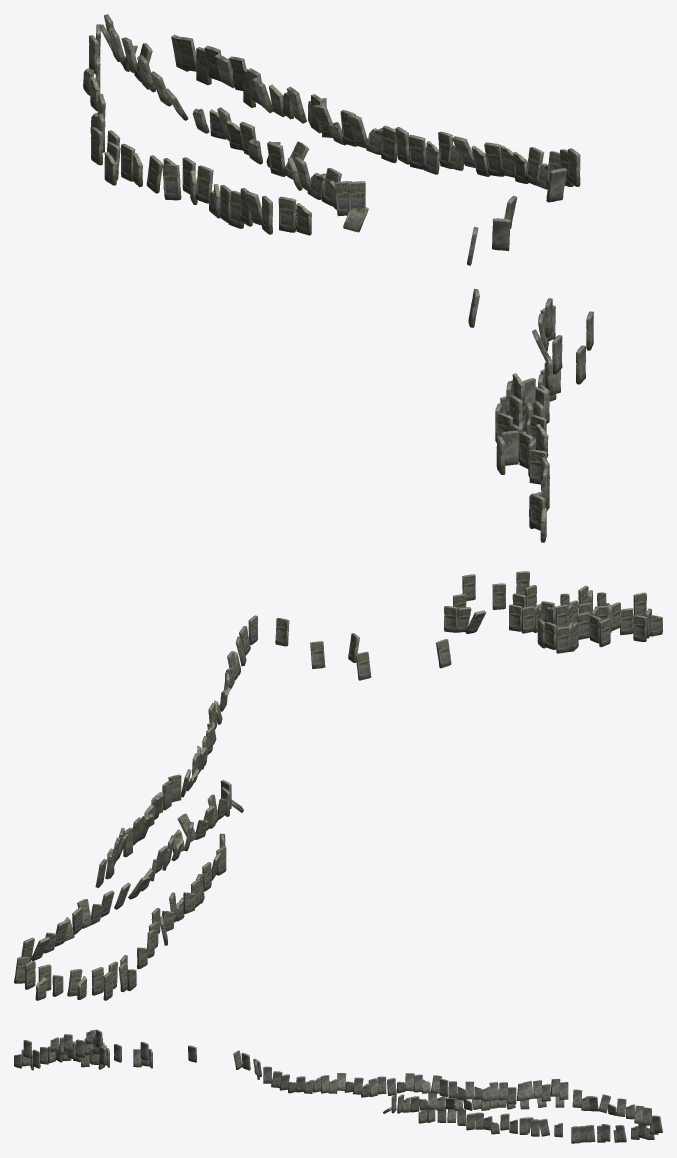
The model's file is tomb04.fbx.
3 renders of one model, top to bottom at view 1: azimuth 30°, elevation 25°; view 2: azimuth 150°, elevation 25°; view 3: azimuth 270°, elevation 25°, orthographic. The views are drawn at different scales.
Visible parts, largest first — view 1: m001303_0:1, m001303_0:2, m001303_1; view 2: m001303_0:1, m001303_0:2, m001303_1; view 3: m001303_0:1, m001303_0:2, m001303_1.
Boxes of the visible parts, box(x1,y1,x2,y2) form: m001303_0:1: box(83, 14, 580, 235); m001303_0:2: box(467, 168, 593, 542); m001303_1: box(85, 28, 548, 521); m001303_0:1: box(14, 615, 257, 1000); m001303_0:2: box(275, 571, 662, 680); m001303_1: box(36, 592, 662, 988); m001303_0:1: box(263, 1066, 662, 1143); m001303_0:2: box(14, 1029, 261, 1079); m001303_1: box(15, 1029, 649, 1130).
Bounding box in the file's own units: 122010 × 88642 × 469646.
3 materials, 3 textured.
